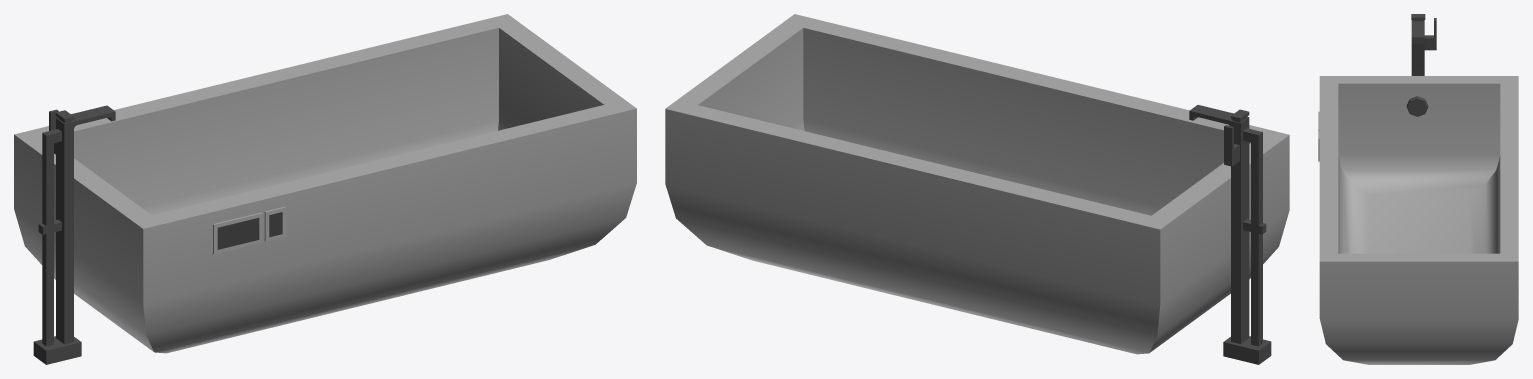
File: bathtub009.glb
The picture shows the model from 3 angles, left to right: view 1: azimuth 30°, elevation 25°; view 2: azimuth 150°, elevation 25°; view 3: azimuth 270°, elevation 25°; orthographic projection. The views are drawn at different scales.
Visible parts, largest first — view 1: bathtub.009; view 2: bathtub.009; view 3: bathtub.009.
Boxes of the visible parts, x1,y1,x2,y2 form: bathtub.009: [14, 14, 636, 364]; bathtub.009: [665, 14, 1289, 364]; bathtub.009: [1318, 14, 1518, 364].
Bounding box in the file's own units: 1.8 × 0.774 × 0.7622.
Materials: 1 (1 with a texture image).
